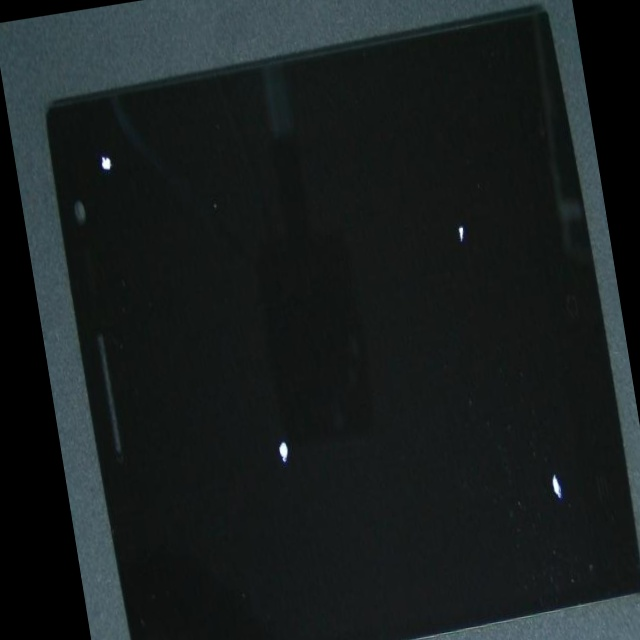stain: (243, 179, 640, 640), (194, 54, 632, 438), (99, 202, 422, 640), (57, 53, 152, 221)
